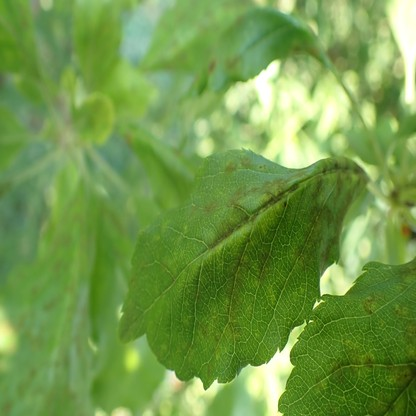scab: (0, 209, 85, 409), (228, 241, 253, 348), (320, 193, 352, 270), (227, 177, 289, 205), (207, 216, 250, 251), (306, 204, 334, 234), (312, 158, 330, 199), (290, 237, 314, 267), (369, 392, 397, 416), (257, 246, 274, 284), (207, 332, 221, 377), (396, 358, 416, 388), (330, 359, 357, 377), (350, 348, 373, 369), (225, 54, 243, 77), (398, 259, 416, 281), (333, 161, 342, 204), (352, 166, 367, 190), (363, 294, 378, 317), (403, 320, 416, 345), (289, 36, 306, 54), (287, 166, 308, 180), (314, 372, 327, 392), (382, 356, 397, 373), (208, 54, 218, 77), (223, 161, 238, 176), (197, 318, 208, 337), (238, 155, 254, 168), (188, 203, 199, 219), (344, 158, 352, 180), (394, 304, 407, 317), (203, 199, 218, 210), (130, 274, 139, 288), (258, 163, 267, 170)
